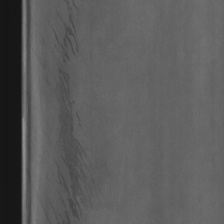water_spot: (46, 3, 90, 224)
